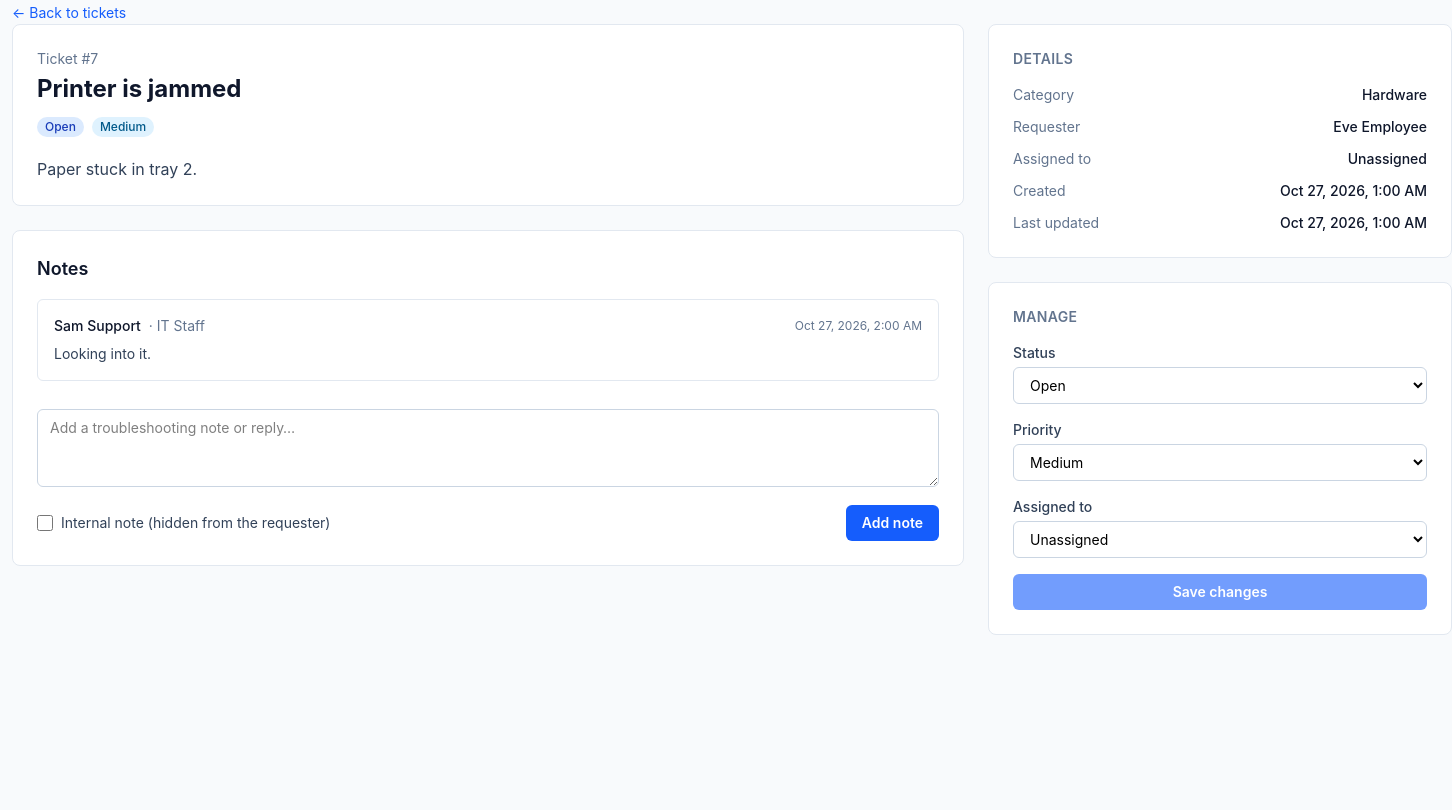
it: TicketDetailPage › as IT staff › does not submit an empty note
This screenshot has width=1452, height=810.
Click the button "Add note".
click(892, 523)  # box [846,505,939,541]
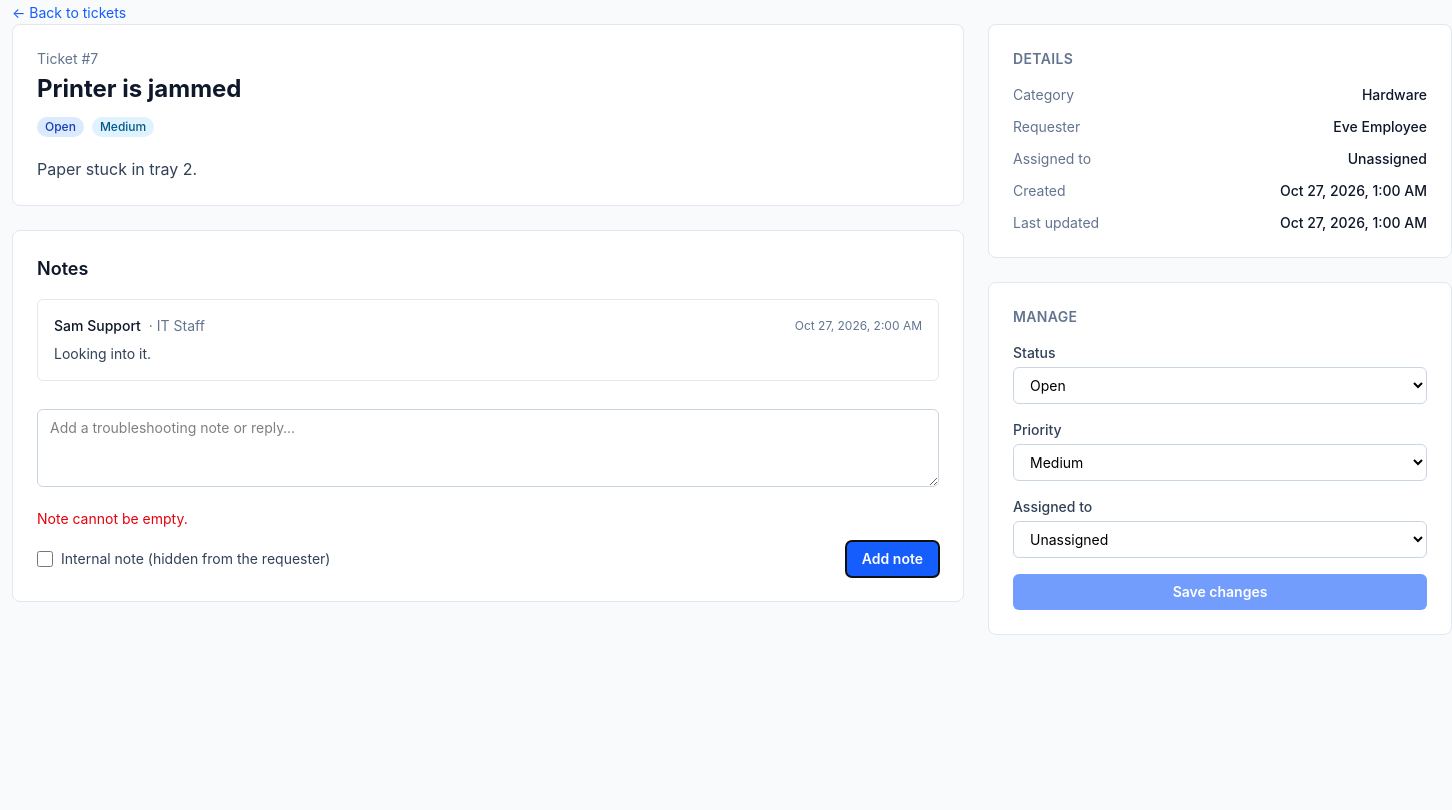
Expected: the text "Note cannot be empty." is shown, [37,510,188,527]
